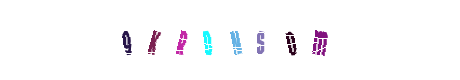0: (209, 0, 289, 80)
9: (162, 0, 242, 80)
D: (187, 0, 267, 80)
K: (167, 0, 247, 80)
M: (212, 0, 292, 80)
N: (190, 0, 270, 80)
R: (172, 0, 252, 80)
S: (195, 0, 275, 80)
